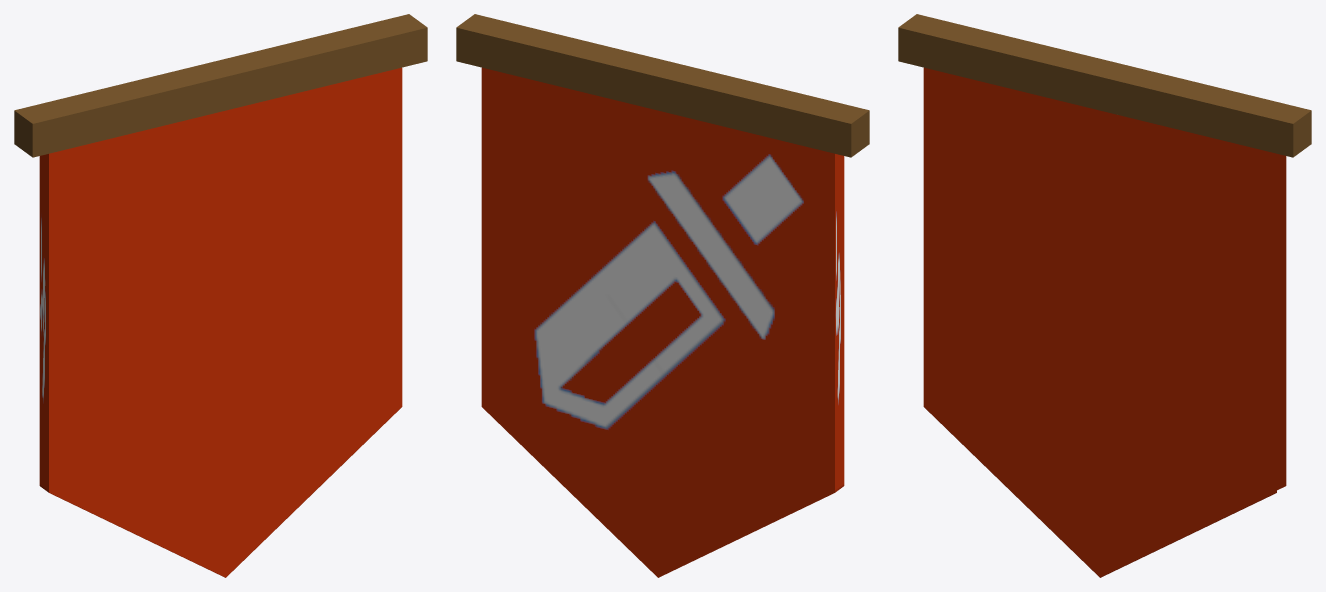
Rendered from sword_flag.fbx.
3 renders of one model, left to right at view 1: azimuth 30°, elevation 25°; view 2: azimuth 150°, elevation 25°; view 3: azimuth 330°, elevation 25°, orthographic.
Visible parts, largest first — view 1: pCube9; view 2: pCube9; view 3: pCube9.
Boxes of the visible parts, x1=… form: pCube9: x1=14, y1=14, x2=427, y2=577; pCube9: x1=456, y1=14, x2=869, y2=577; pCube9: x1=898, y1=14, x2=1311, y2=577.
Bounding box in the file's own units: 25.03 × 30.62 × 2.04.
1 material, 1 textured.
